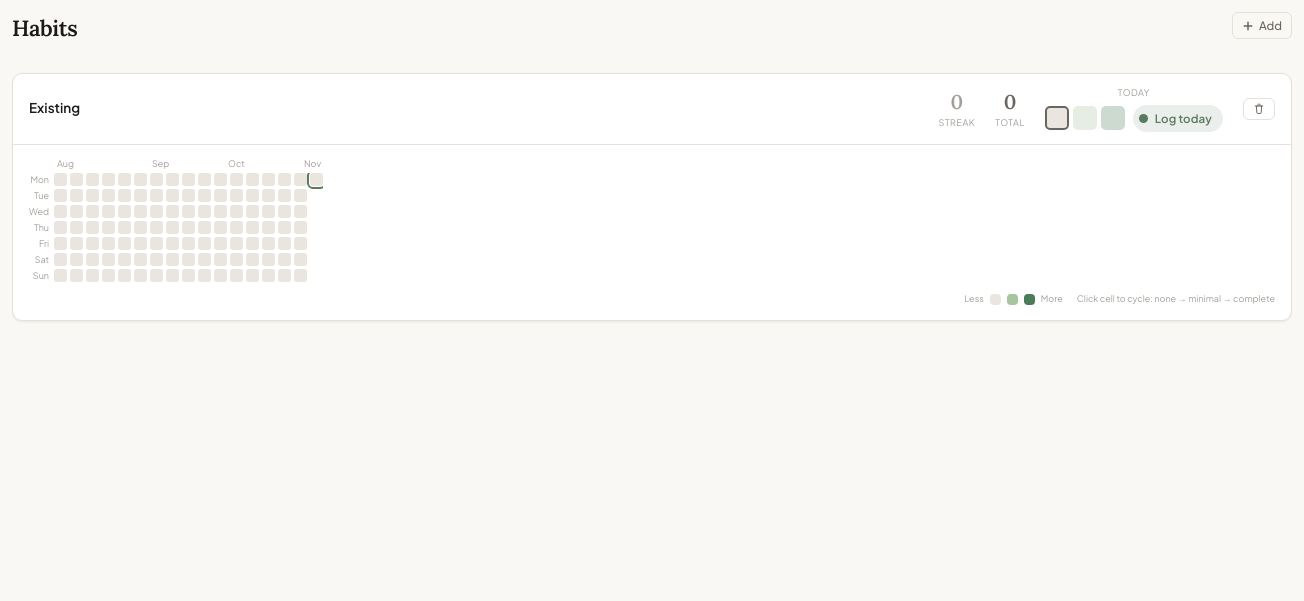
it: HabitsView add habit scroll-into-view › scrolls the newly created habit into view once it appears in the list
Click the button "Add" at (1262, 26), box [1232, 12, 1292, 39]
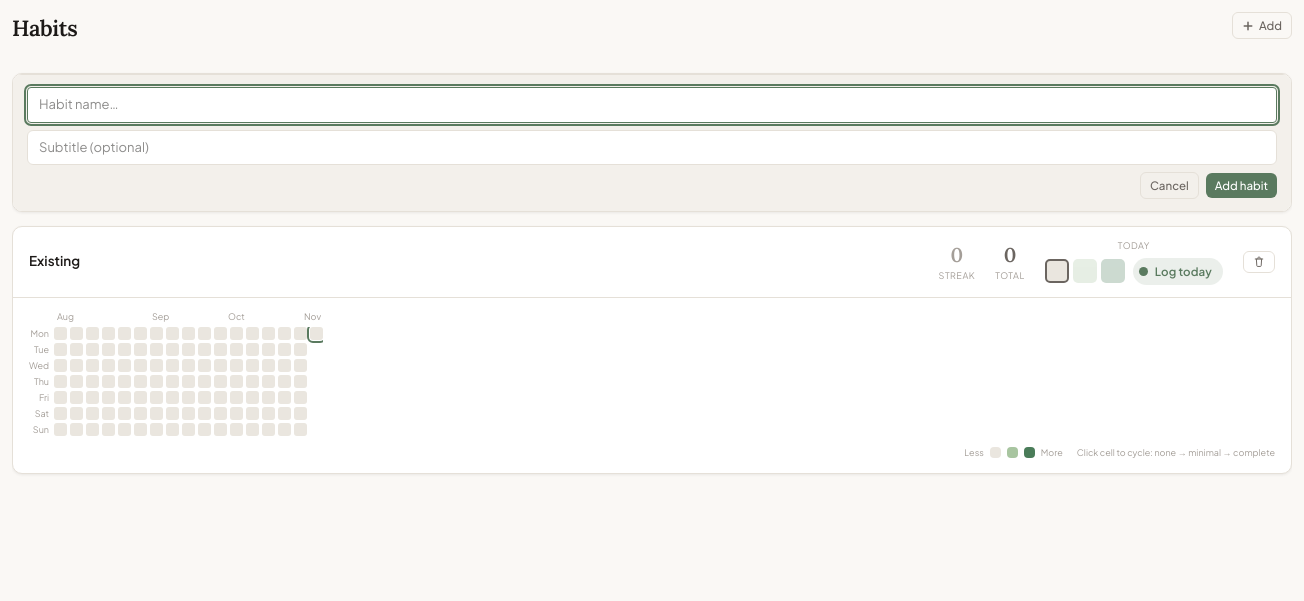
Type "Read" into the field with placeholder "Habit name…" at (652, 105), box [27, 87, 1277, 122]
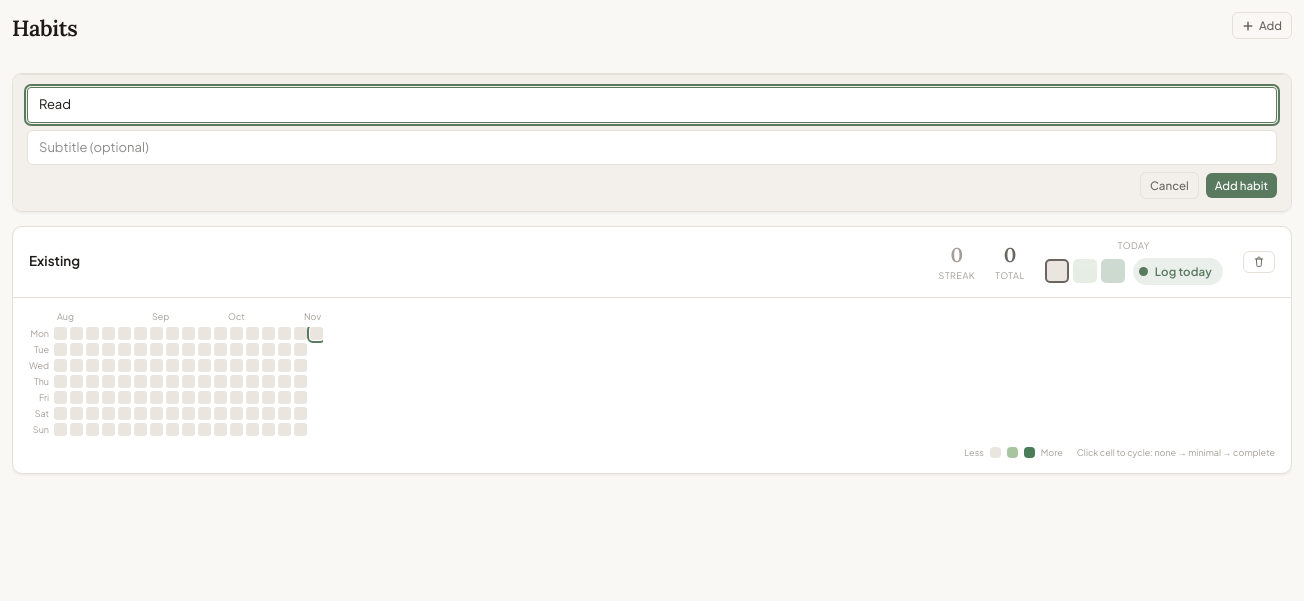
Click the button "Add habit" at (1241, 186), box [1206, 173, 1277, 198]
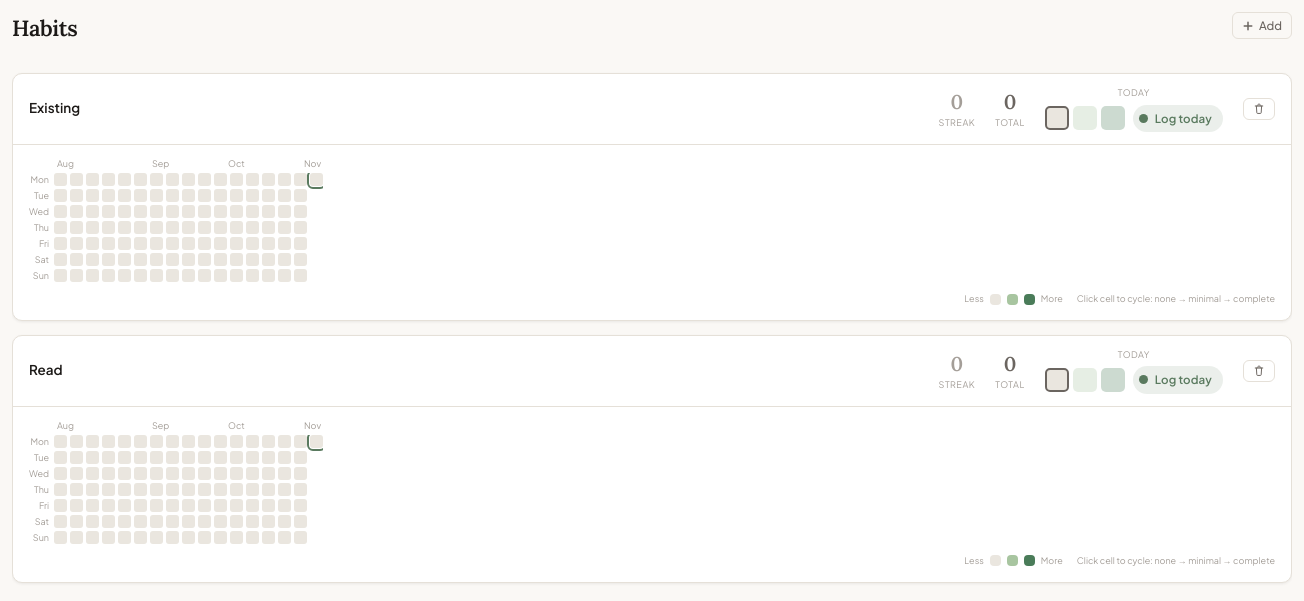
Now the heading "Read" is shown, box [29, 360, 62, 380]
